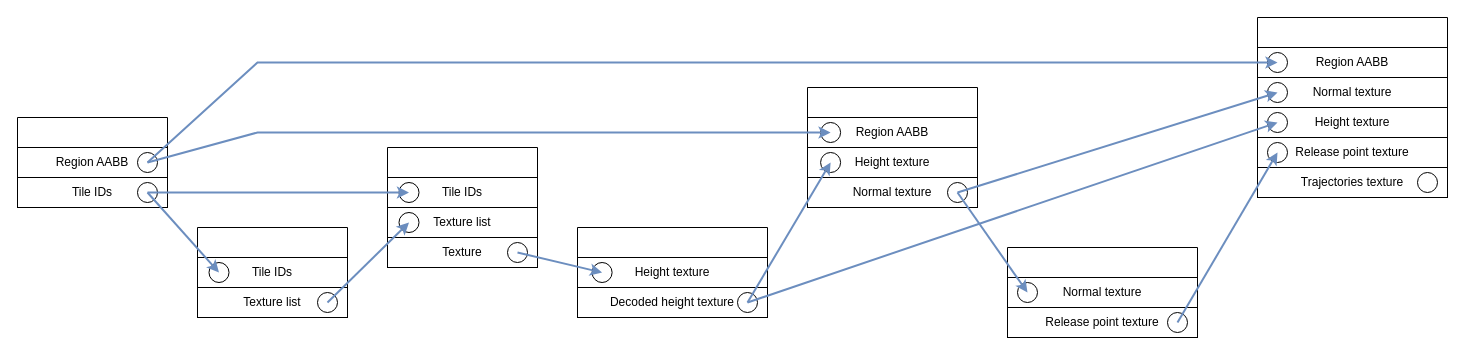
The diagram is 1465 pixels wide and 355 high, and some of its shapes have lost their labels. The shapes that lost their labels are listed below. From the top down, each one's box as (x1, y1, x2, y2) in pixels, then its label:
(1256, 16, 1448, 198): AvalancheTrajectoriesNode
(16, 116, 168, 208): TileSelectNode
(806, 86, 978, 208): NormalComputeNode
(386, 146, 538, 268): TileStitchNode
(196, 226, 348, 318): TileRequestNode
(576, 226, 768, 318): HeightDecodeNode
(1006, 246, 1198, 338): ReleasePointNode
